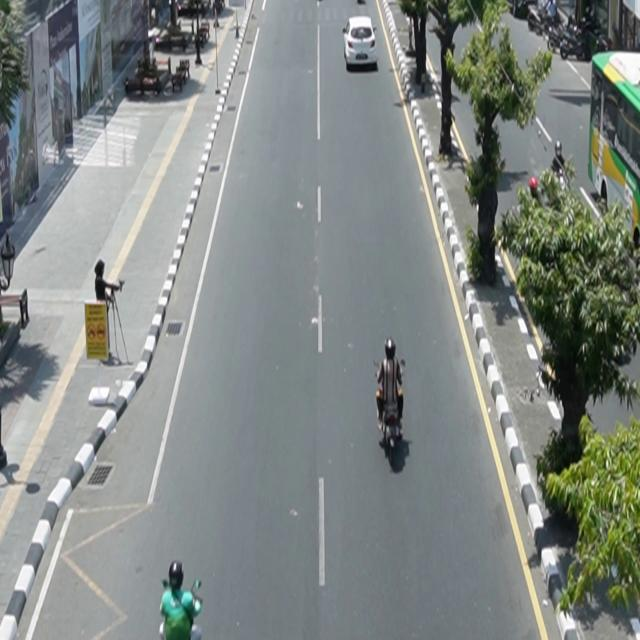bus: (588, 49, 640, 250)
car: (342, 17, 378, 69)
